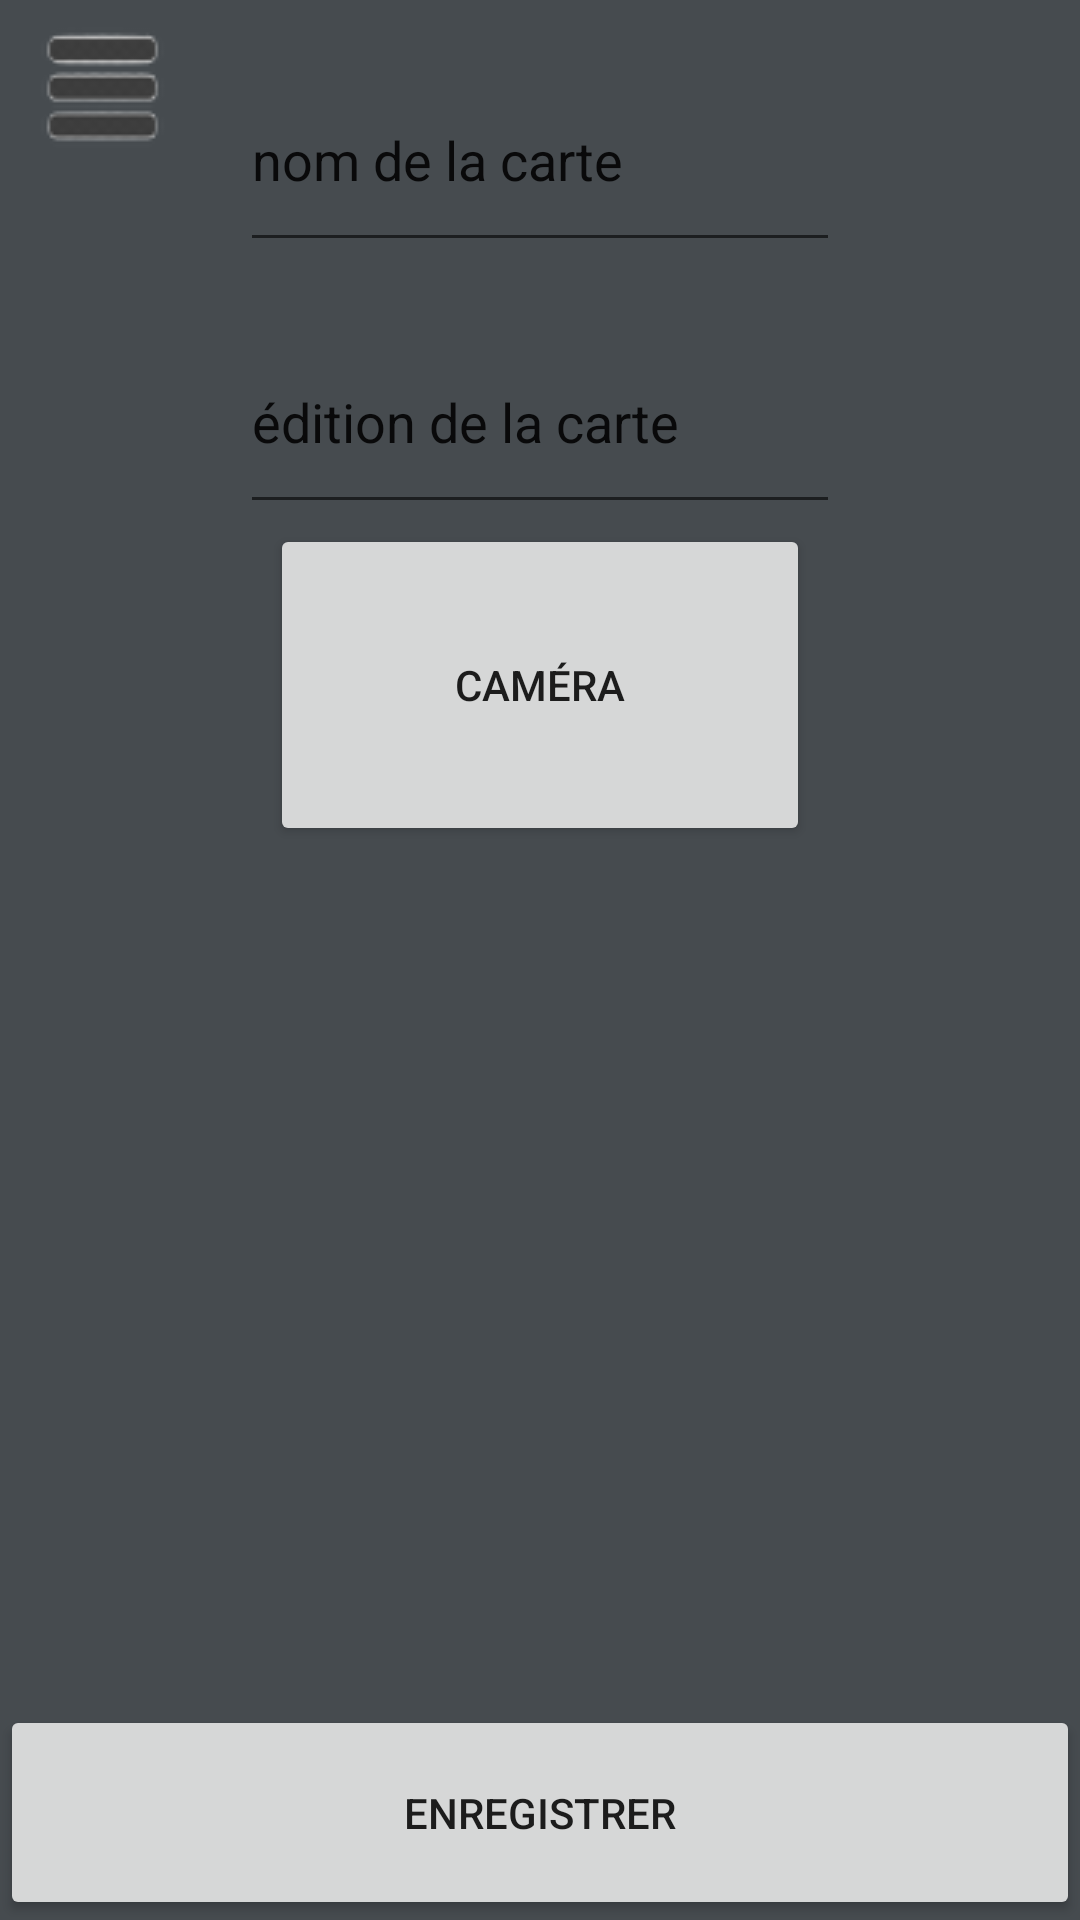

Where to tap for icons on this 1080 × 1920 app screen, as point (x, y):
Ouvrir le menu déroulant: point (102, 87)
